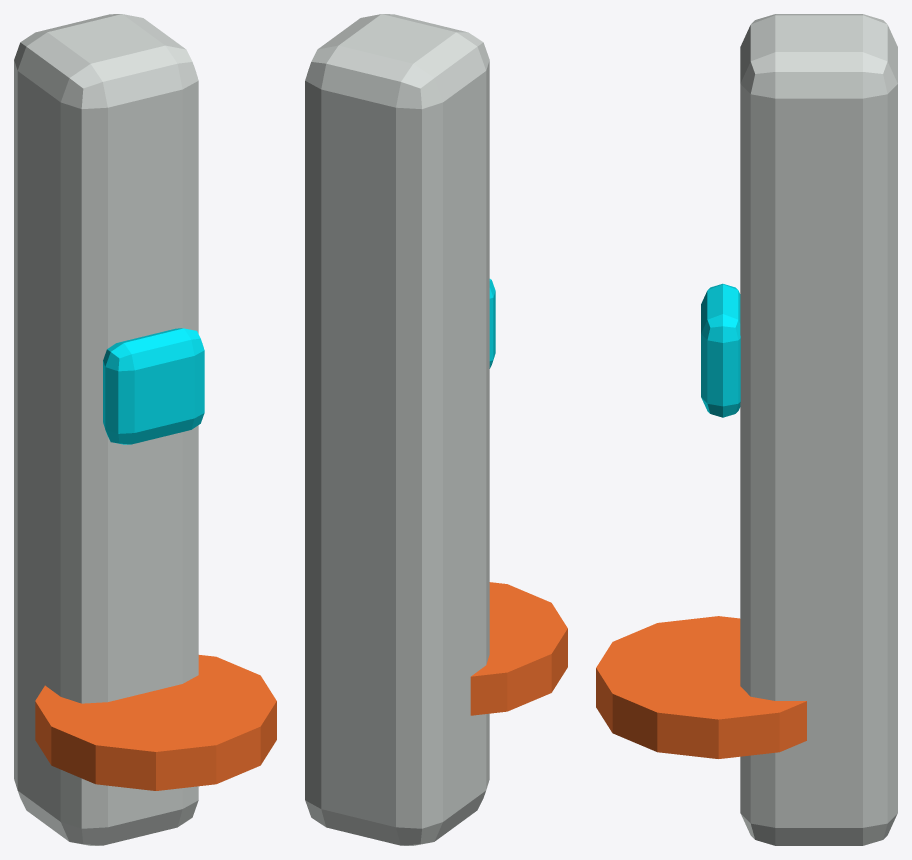
The model's file is LPK_OxygenLeakPipe_2m.fbx.
3 renders of one model, left to right at view 1: azimuth 30°, elevation 25°; view 2: azimuth 150°, elevation 25°; view 3: azimuth 270°, elevation 25°, orthographic.
Visible parts, largest first — view 1: PipeBody, PipeValvePivot, LeakMistEmitter; view 2: PipeBody, PipeValvePivot, LeakMistEmitter; view 3: PipeBody, PipeValvePivot, LeakMistEmitter.
Part boxes in pixels (left/top/right/bottom): PipeBody: left=14, top=14, right=198, bottom=845; PipeValvePivot: left=35, top=655, right=276, bottom=790; LeakMistEmitter: left=103, top=328, right=204, bottom=444; PipeBody: left=305, top=14, right=489, bottom=845; PipeValvePivot: left=470, top=582, right=567, bottom=715; LeakMistEmitter: left=489, top=279, right=495, bottom=368; PipeBody: left=740, top=14, right=897, bottom=845; PipeValvePivot: left=596, top=616, right=806, bottom=758; LeakMistEmitter: left=701, top=283, right=740, bottom=417.
Bounding box in the file's own units: 0.56 × 2 × 0.69.
